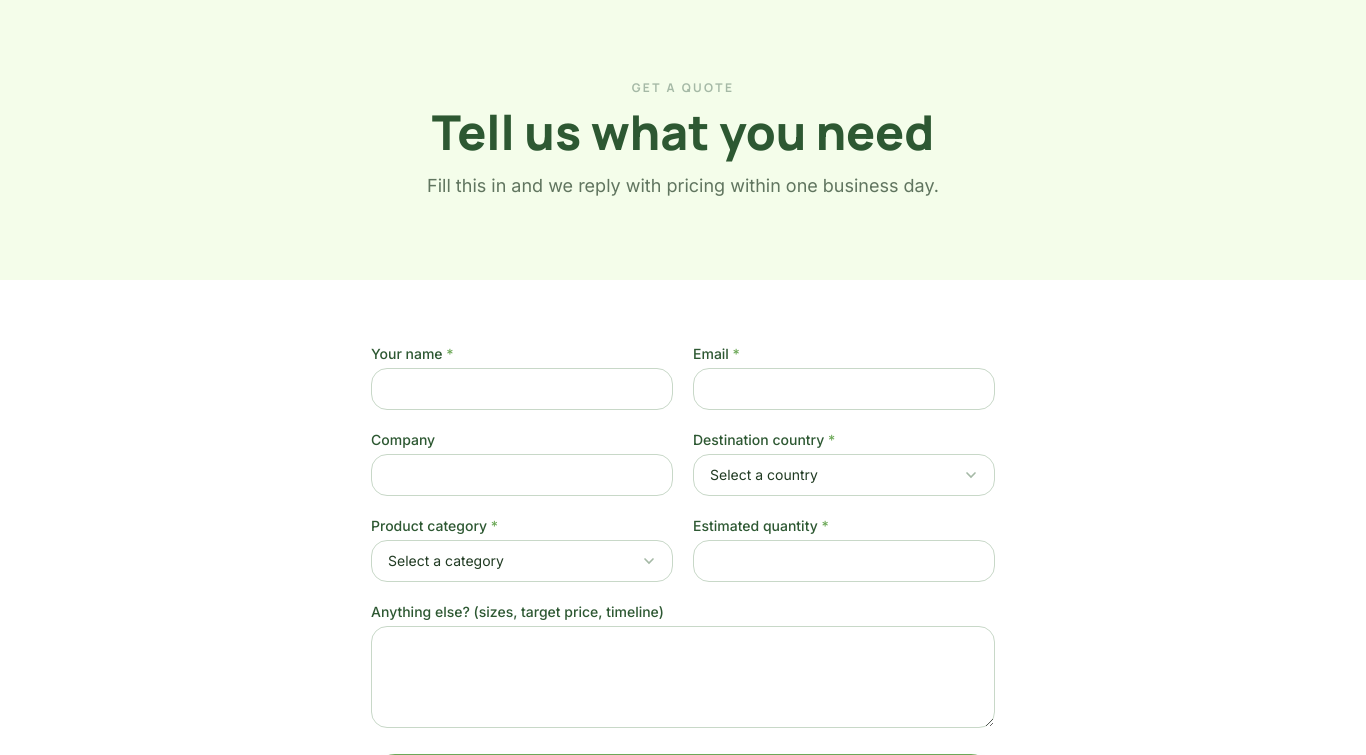
Test: GetQuotePage › a valid submit opens the mail client and shows the success screen
This screenshot has width=1366, height=755.
Type "Maria Lopez" into the field labelled "Your name *" at (522, 389), box [371, 368, 673, 410]
Type "maria@buyfood.com" into the field labelled "Email *" at (844, 389), box [693, 368, 995, 410]
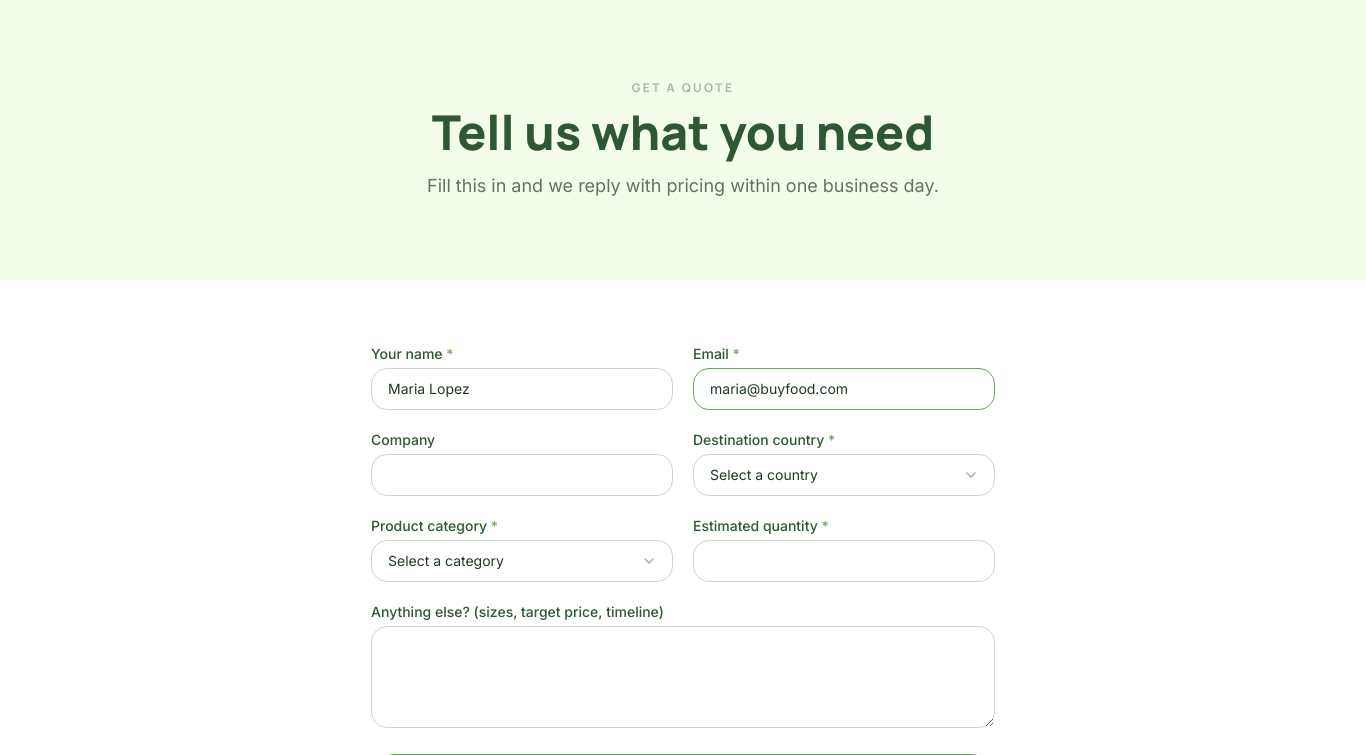
Type "BuyFood Inc" into the field labelled "Company" at (522, 475), box [371, 454, 673, 496]
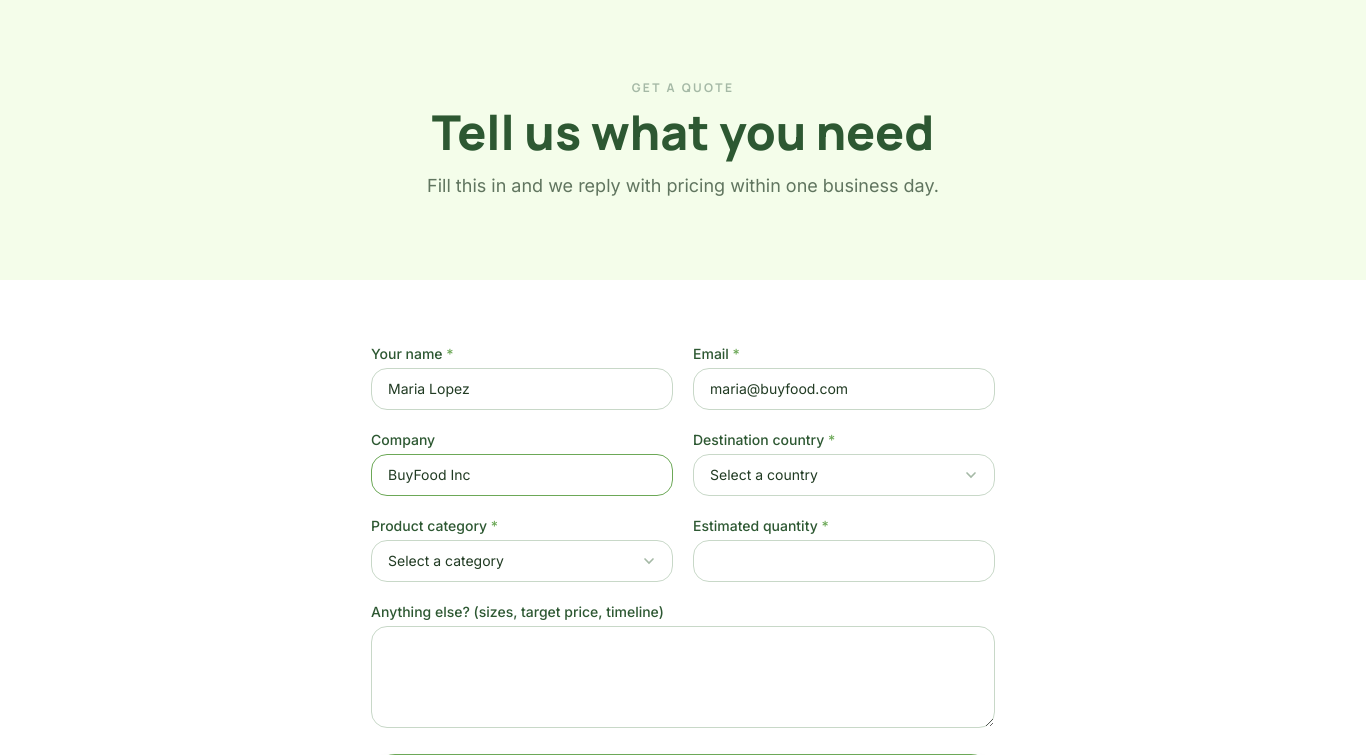
Select "Spain" in the dropdown labelled "Destination country *" at (844, 475), box [693, 454, 995, 496]
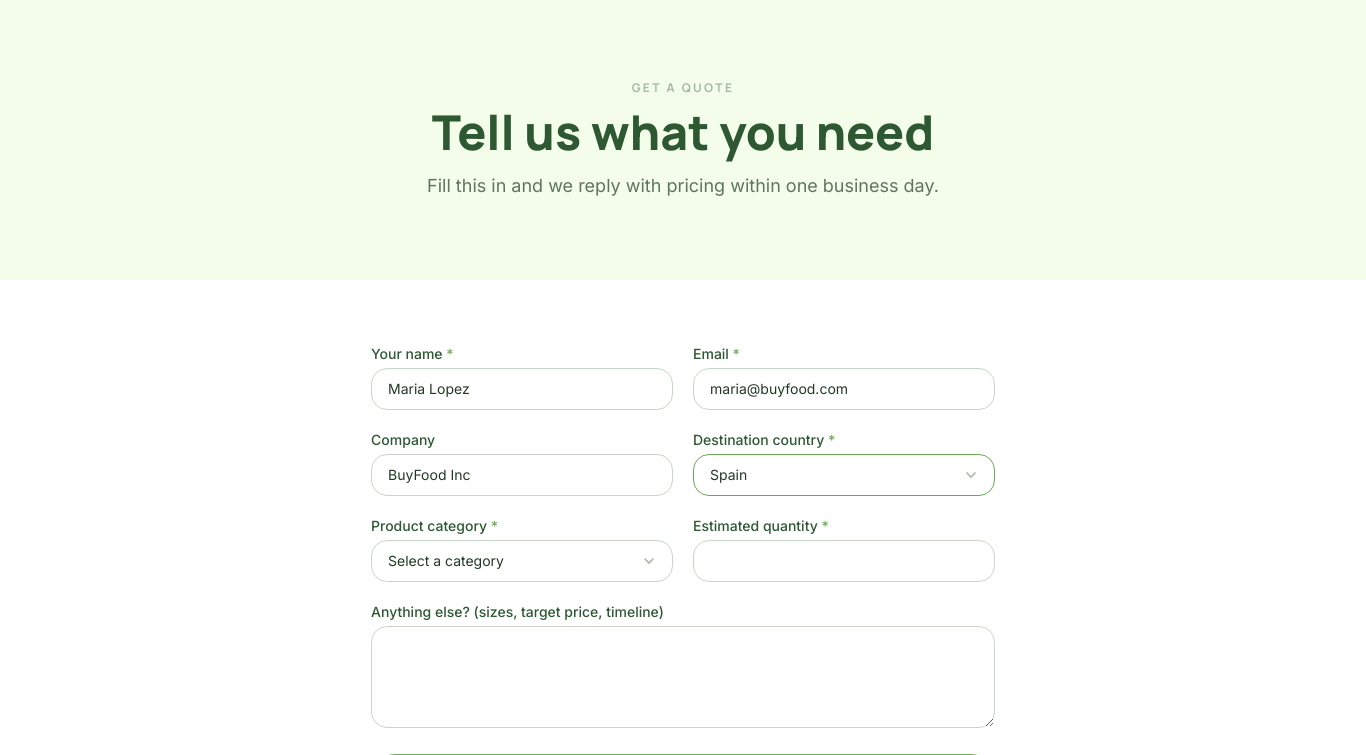
Select "Bowls" in the dropdown labelled "Product category *" at (522, 561), box [371, 540, 673, 582]
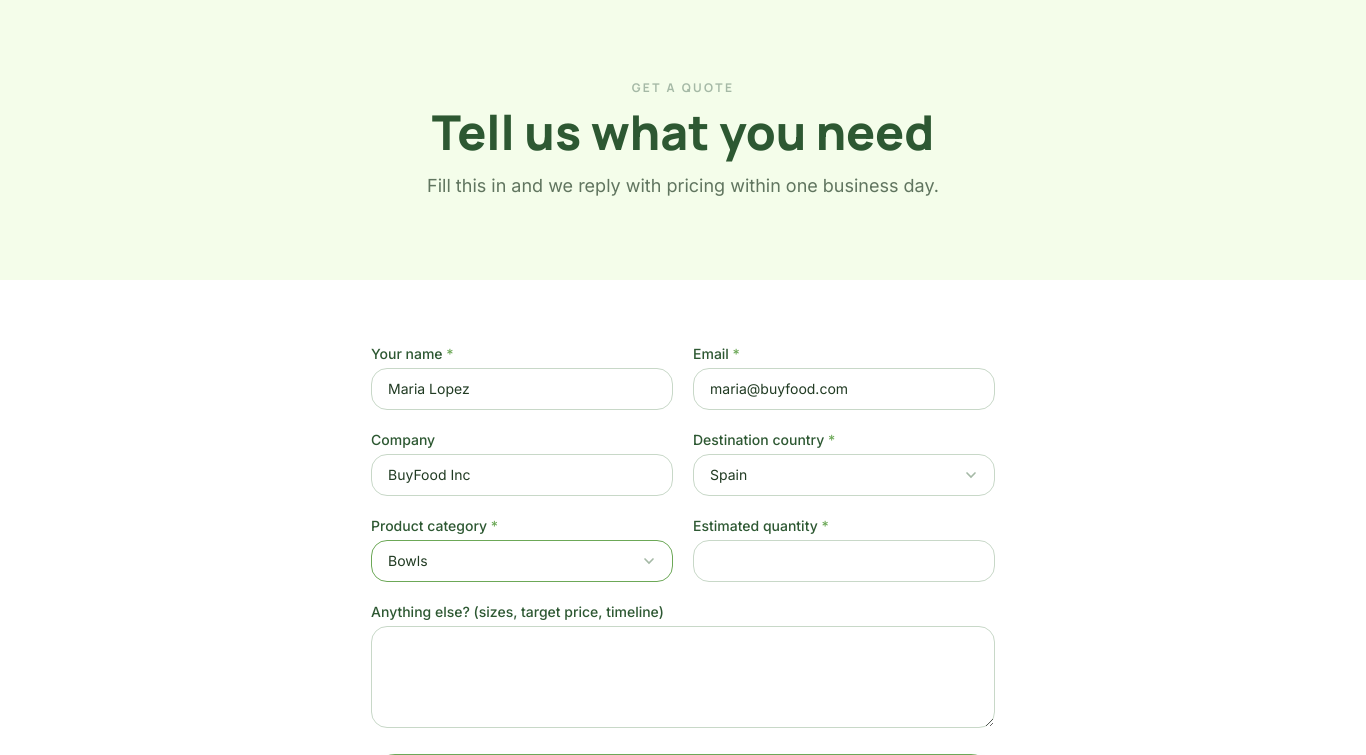
Type "25000" into the field labelled "Estimated quantity *" at (844, 561), box [693, 540, 995, 582]
(page scrolled)
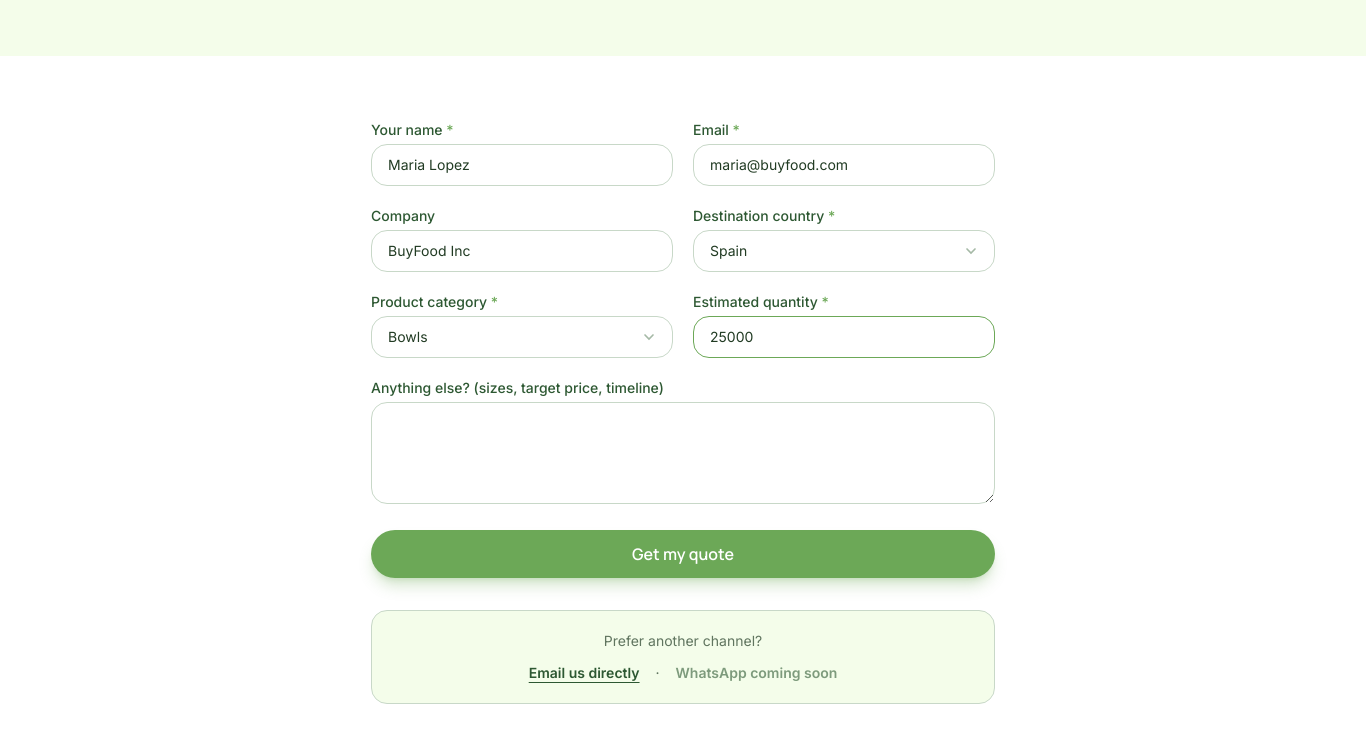
Click the button "Get my quote" at (683, 554), box [371, 530, 995, 578]
(page scrolled)
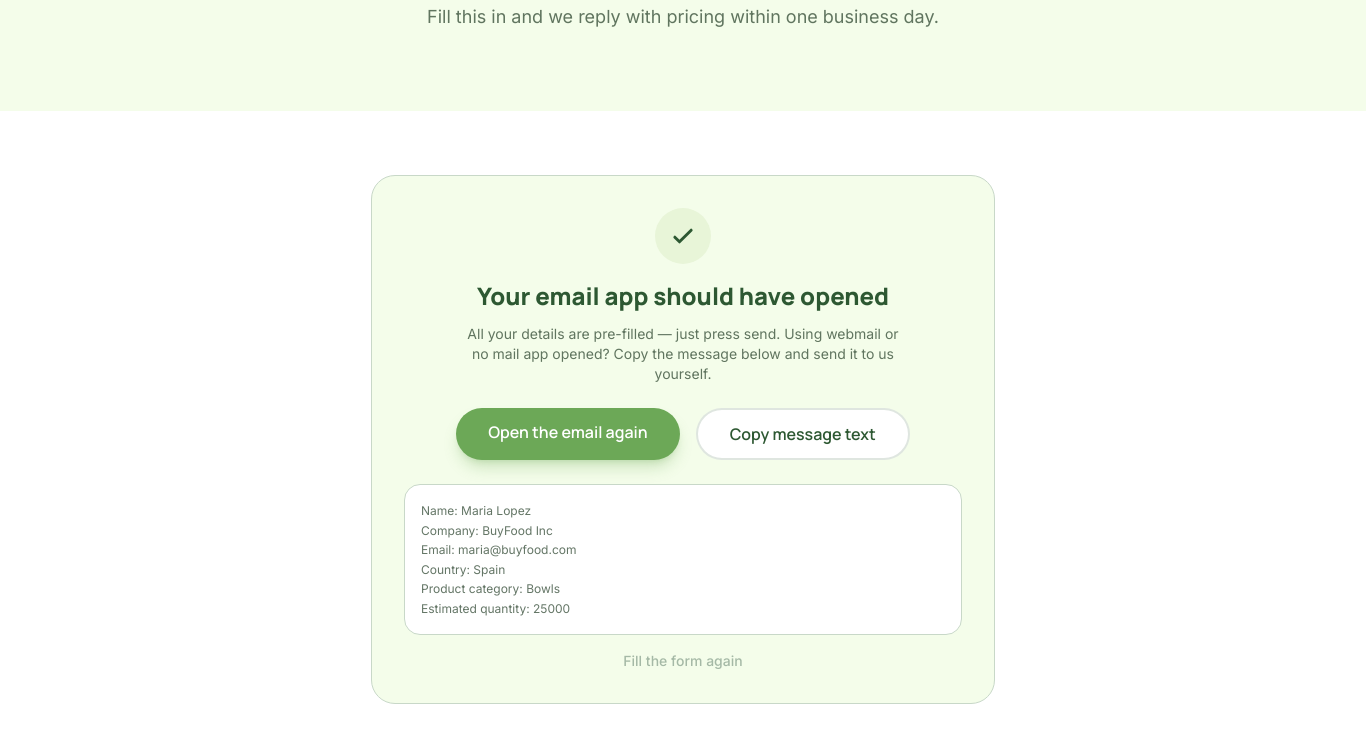
Expected: the heading "Your email app should have opened" is shown, [477, 279, 889, 312]
